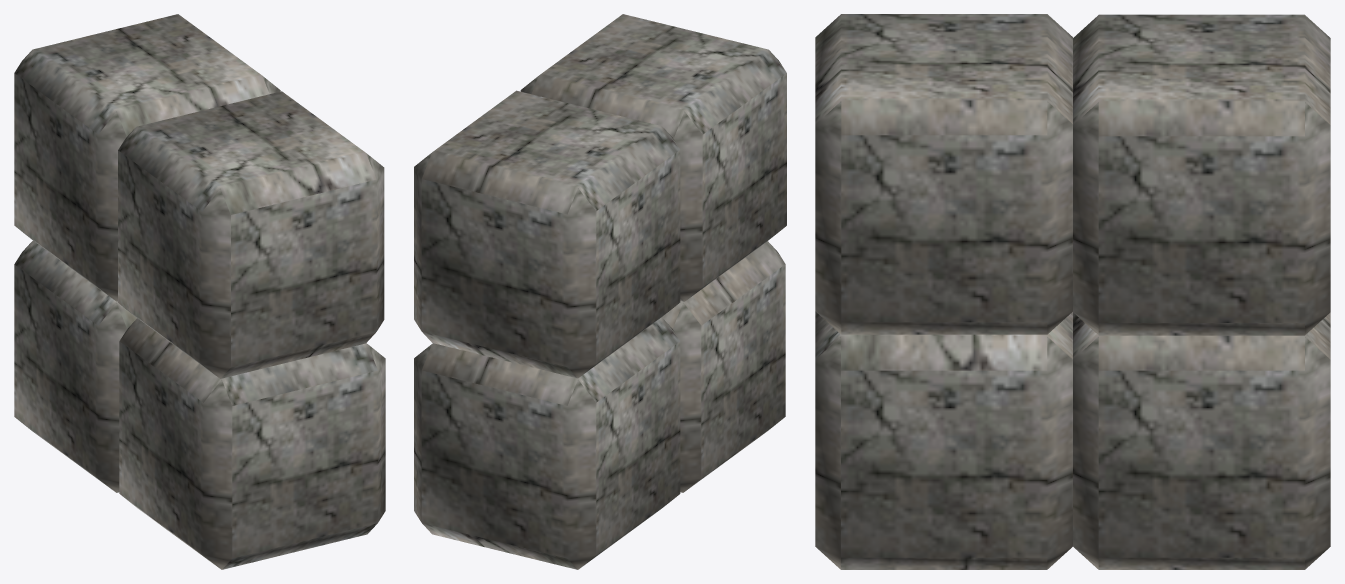
File: BLOCK_CLUSTER04.fbx
3 renders of one model, left to right at view 1: azimuth 30°, elevation 25°; view 2: azimuth 150°, elevation 25°; view 3: azimuth 270°, elevation 25°, orthographic. The views are drawn at different scales.
Visible parts, largest first — view 1: BLOCK_CLUSTER04; view 2: BLOCK_CLUSTER04; view 3: BLOCK_CLUSTER04.
Part boxes in pixels (left/top/right/bottom): BLOCK_CLUSTER04: left=14, top=14, right=385, bottom=569; BLOCK_CLUSTER04: left=414, top=14, right=786, bottom=569; BLOCK_CLUSTER04: left=815, top=14, right=1330, bottom=569.
Bounding box in the file's own units: 10075 × 20038 × 20000.
Materials: 1 (1 with a texture image).
